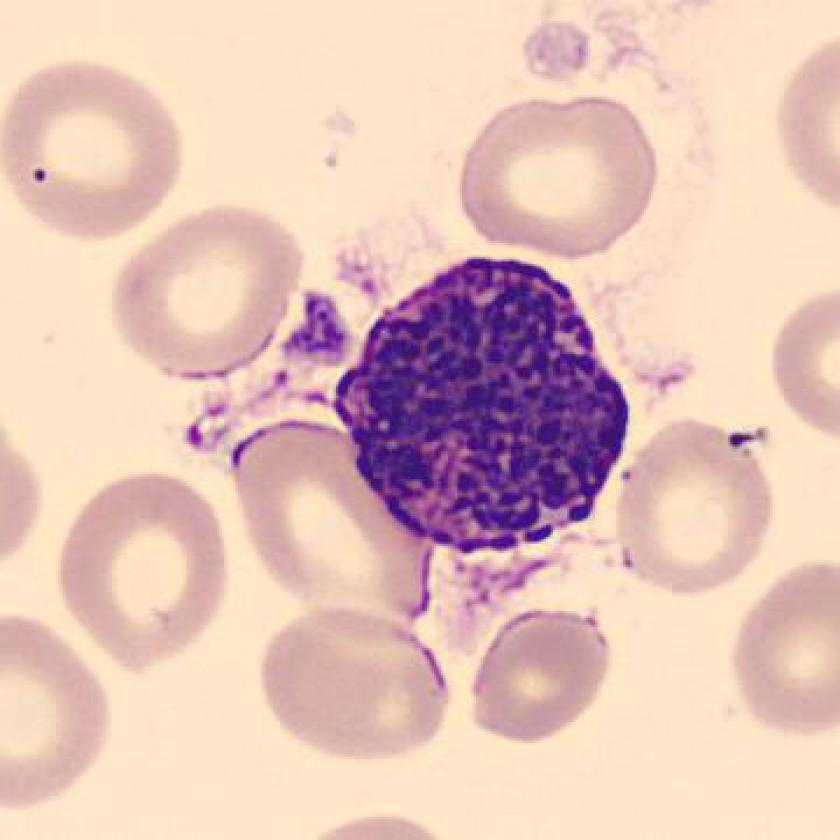basophil: (335, 256, 629, 557)
